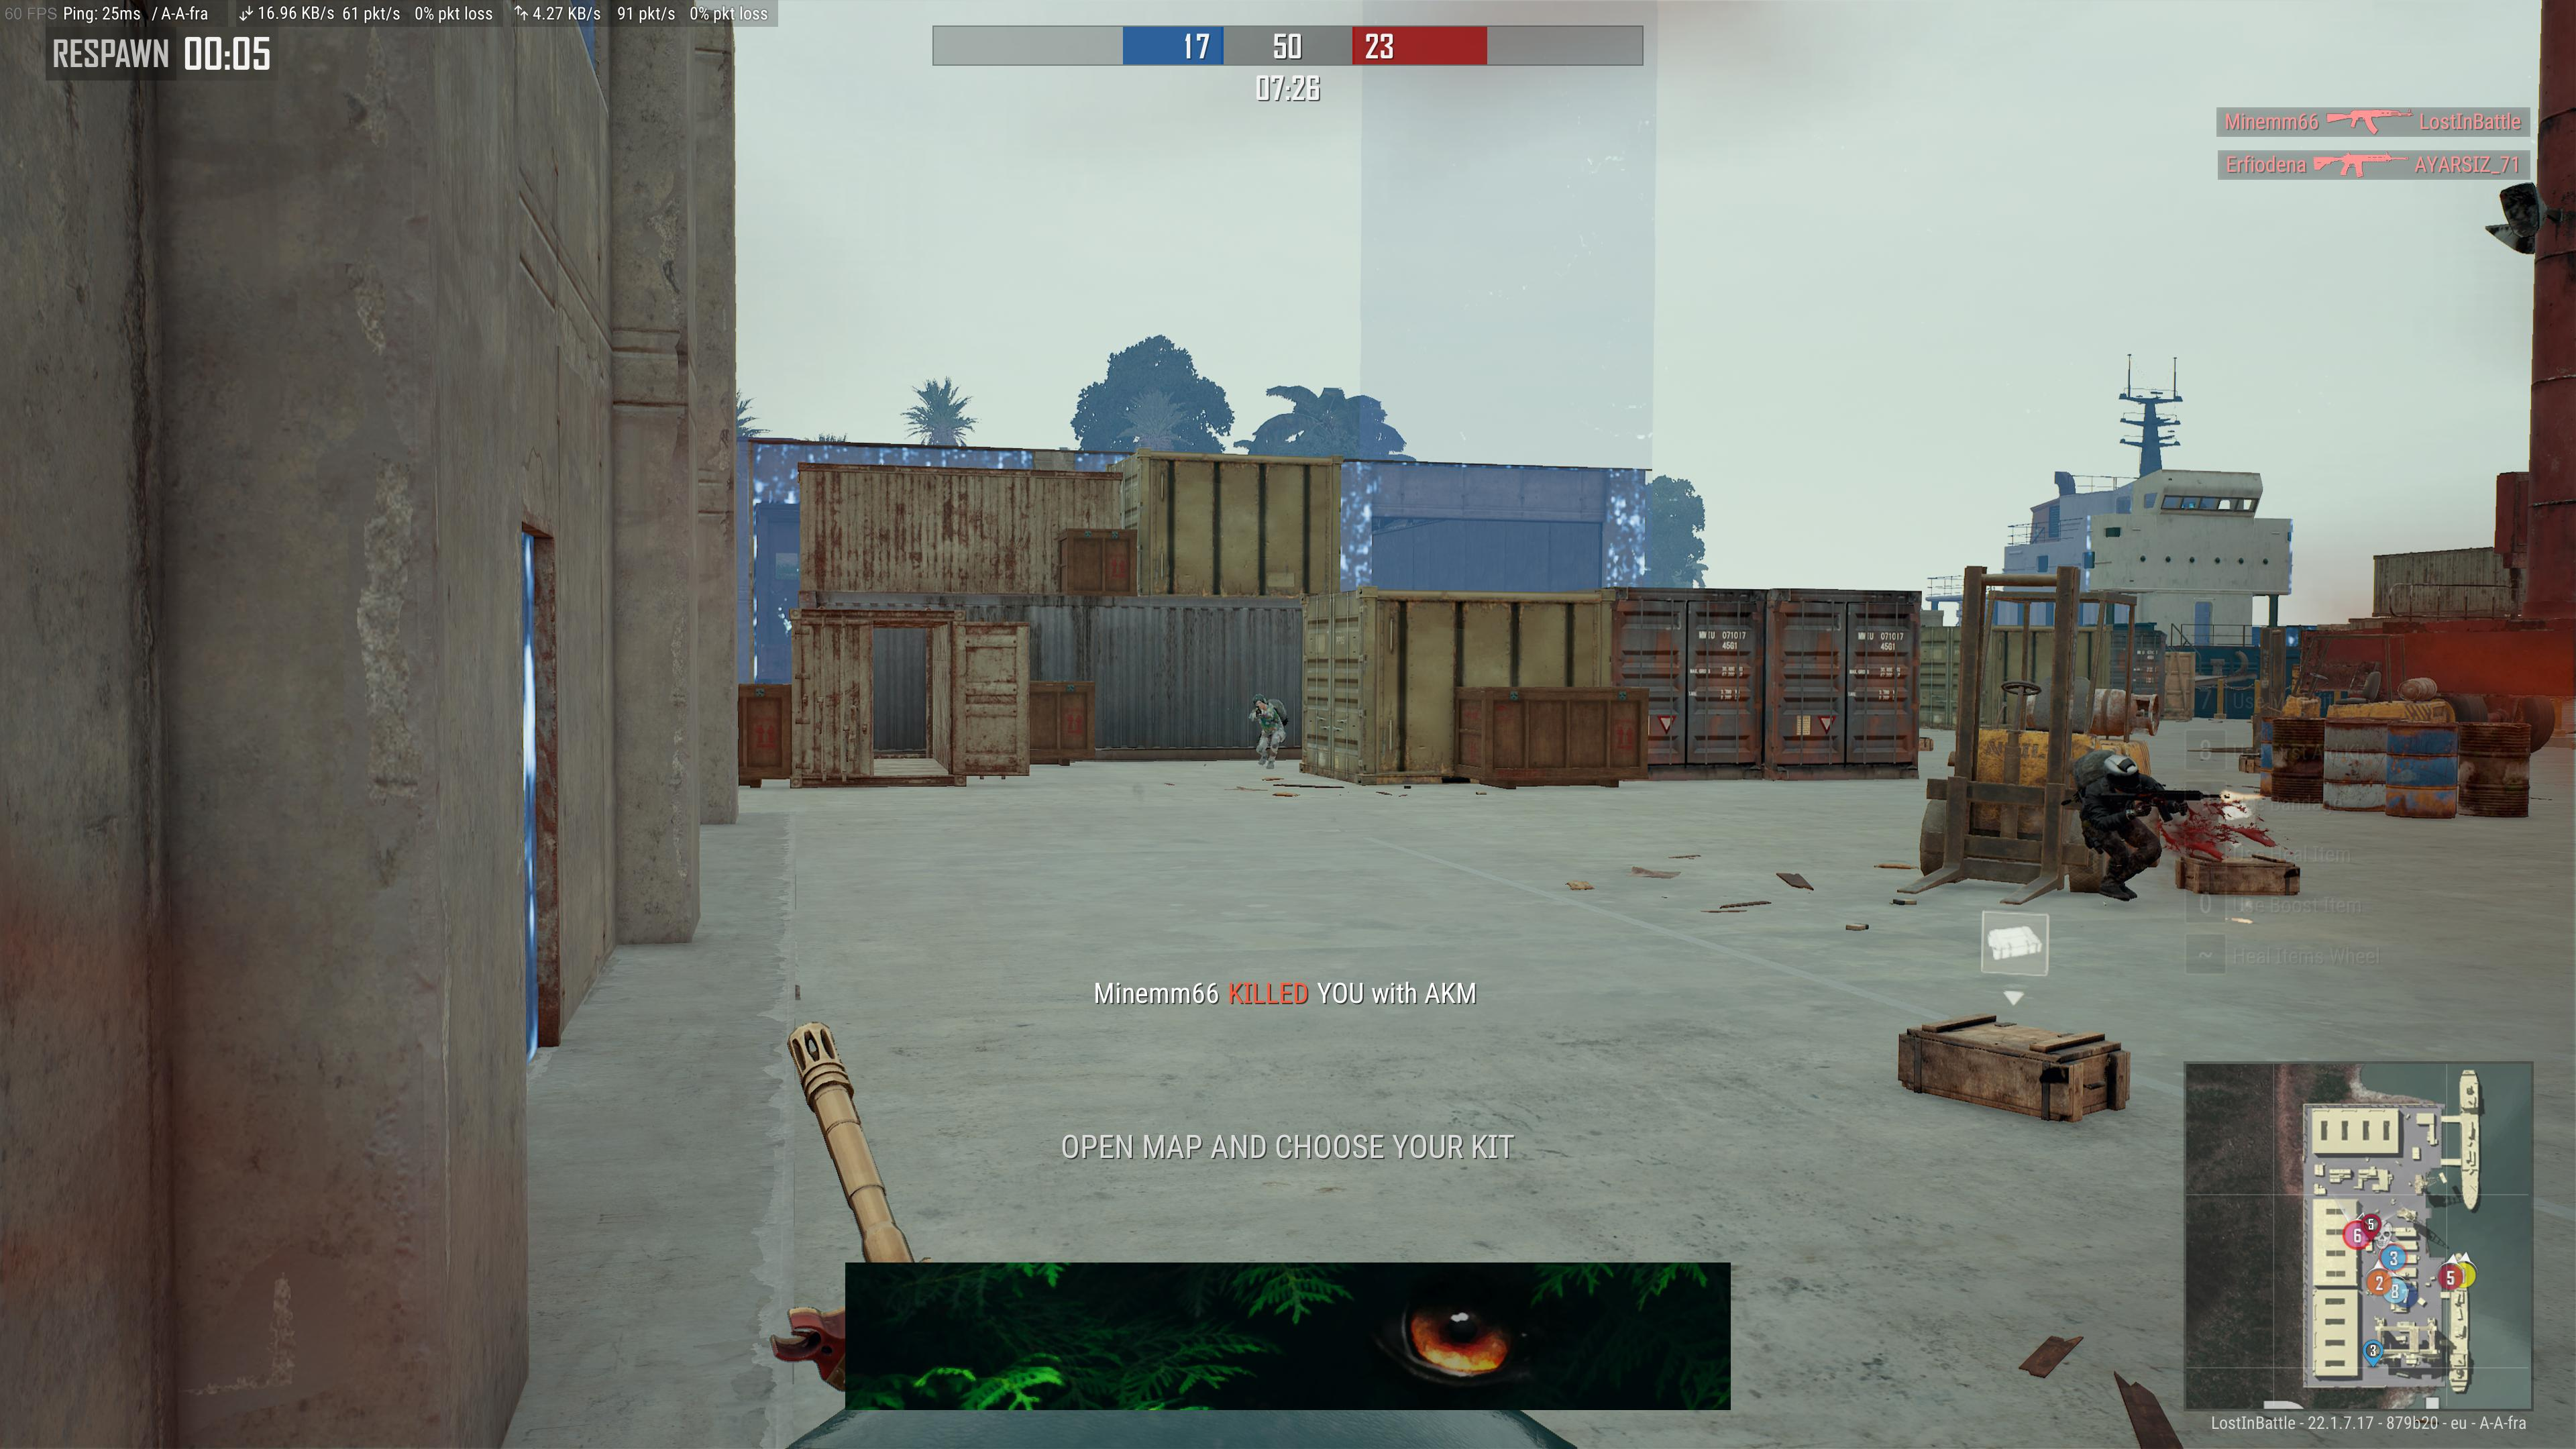enemy: (2068, 747, 2189, 904), (1246, 694, 1288, 773)
enemy_head: (2102, 754, 2141, 793), (1253, 694, 1269, 709)
